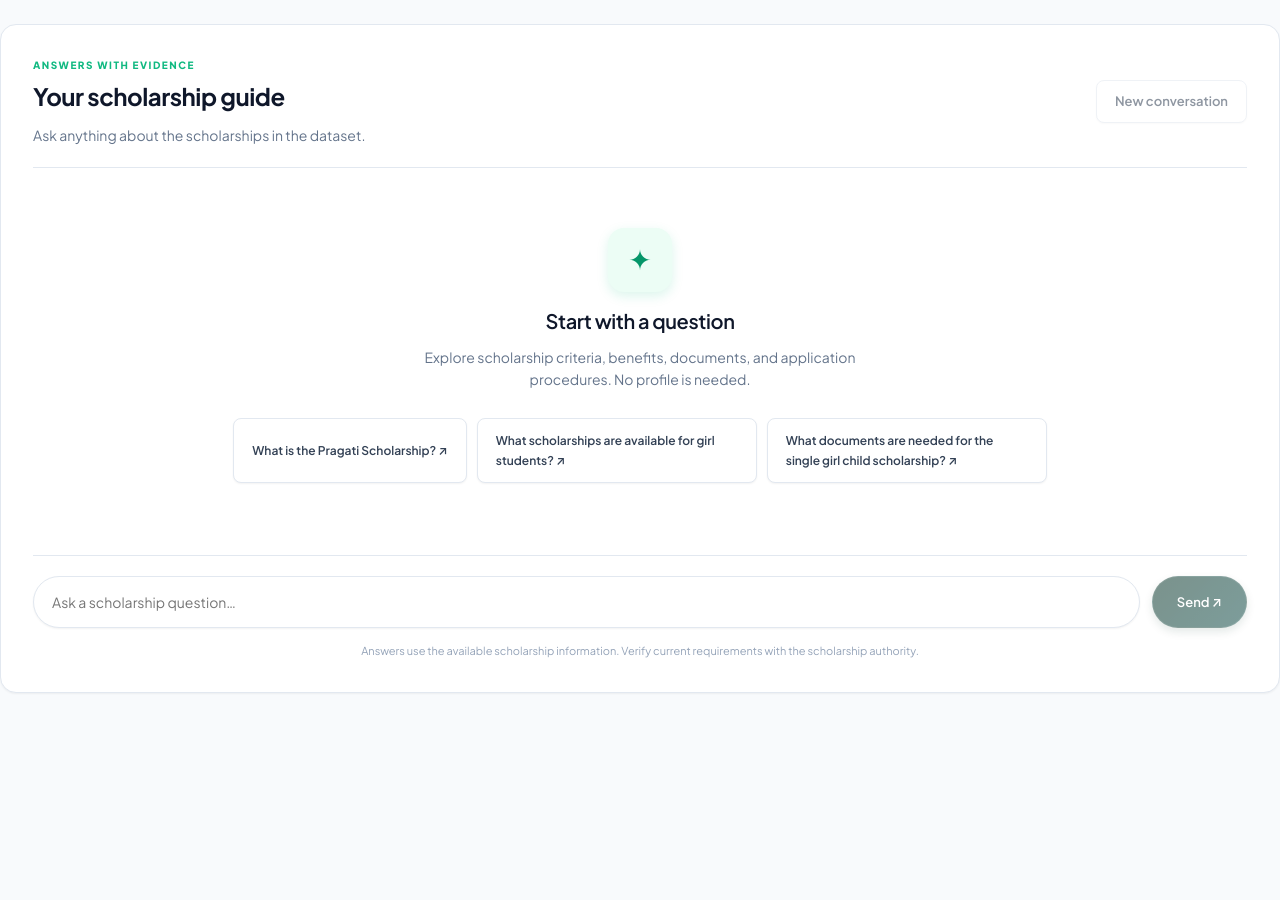
Test: sources and immediate assistant access › passes selected scholarship context without forcing a hard filter
Type "Who is eligible?" into the field labelled "Ask a scholarship question" at (586, 602), box [33,576,1140,628]
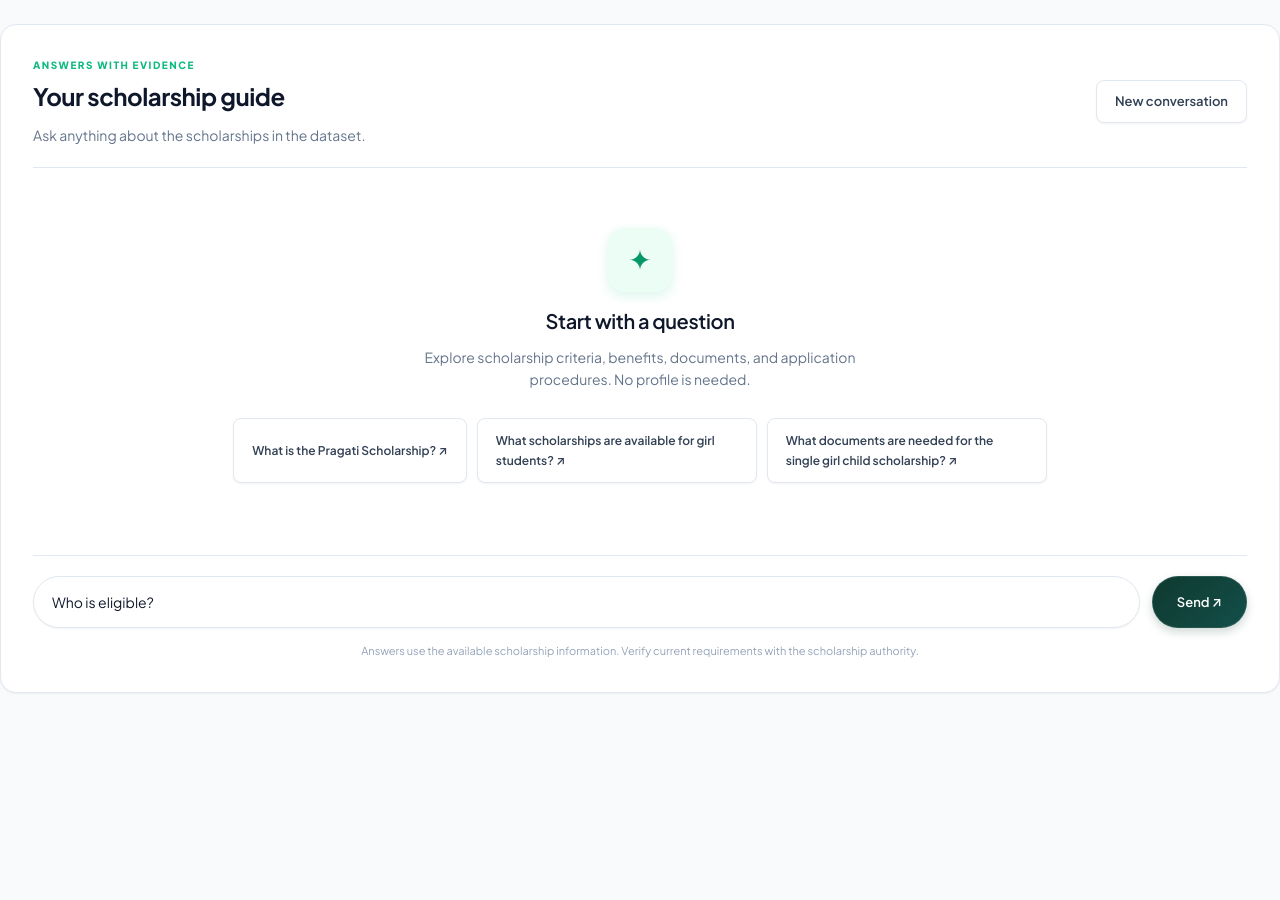
Result: the button "Send ↗" is enabled
Click the button "Send ↗" at (1199, 602), box [1152,576,1247,628]
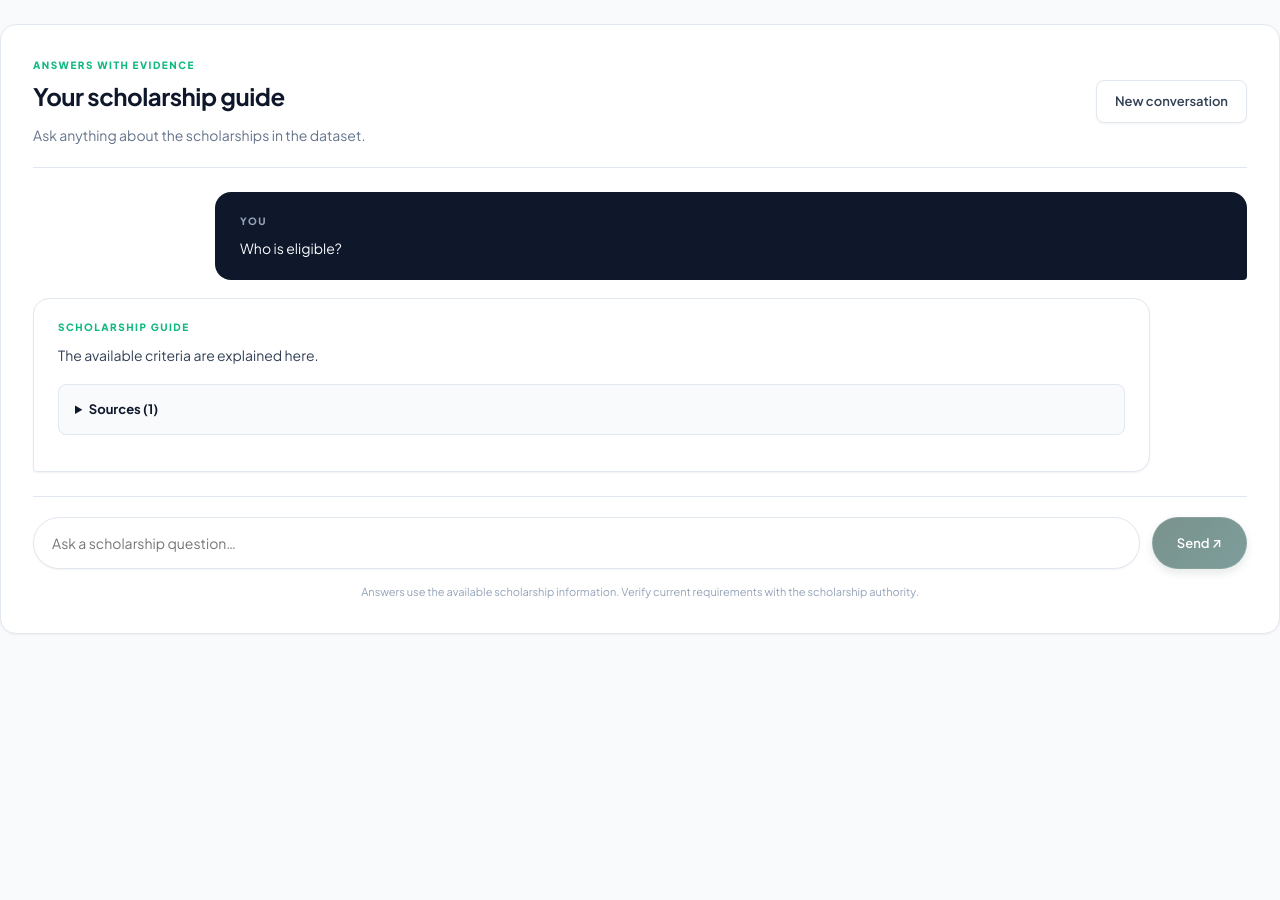
Result: the text "The available criteria are explained here." is shown at [58,346,318,364]
